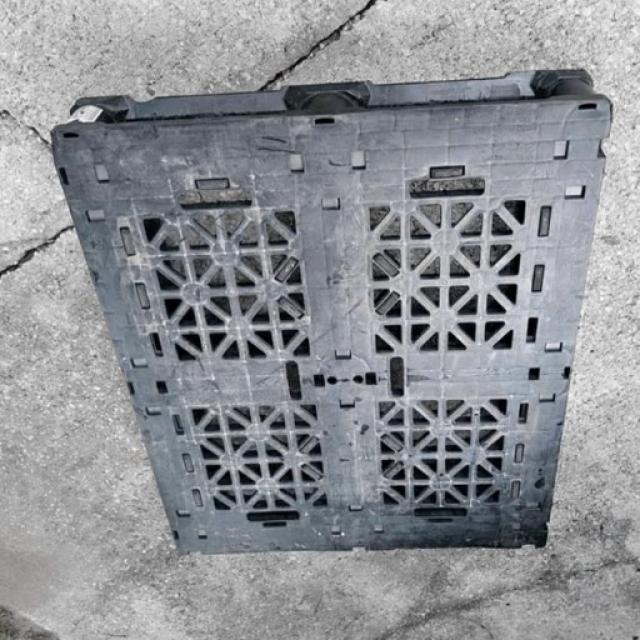igps: (45, 59, 618, 564)
